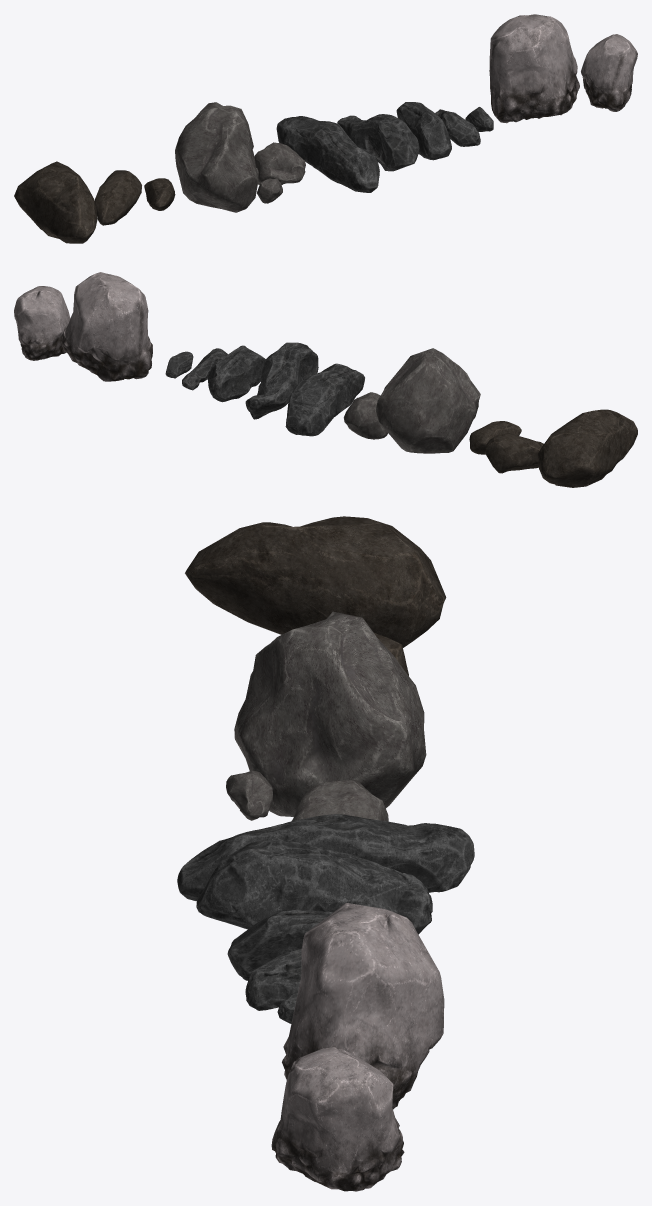
The model's file is assorted_rock_pack_src.glb.
3 views of the same model, one above another, from view 1: azimuth 30°, elevation 25°; view 2: azimuth 150°, elevation 25°; view 3: azimuth 270°, elevation 25° (orthographic). The views are drawn at different scales.
Parts seen in each view (by area): view 1: Object_2, Object_8, Object_9, Object_5, Object_7, Object_6, Object_4, Object_3; view 2: Object_2, Object_8, Object_9, Object_5, Object_7, Object_6, Object_4, Object_3; view 3: Object_2, Object_8, Object_9, Object_7, Object_5, Object_6, Object_4.
Boxes of the visible parts, left/top/right/bottom form: Object_2: left=489, top=14, right=637, bottom=123; Object_8: left=175, top=102, right=305, bottom=212; Object_9: left=14, top=161, right=175, bottom=243; Object_5: left=276, top=116, right=379, bottom=192; Object_7: left=337, top=114, right=419, bottom=171; Object_6: left=396, top=102, right=451, bottom=160; Object_4: left=435, top=109, right=480, bottom=146; Object_3: left=465, top=107, right=493, bottom=131; Object_2: left=14, top=272, right=152, bottom=381; Object_8: left=343, top=348, right=480, bottom=453; Object_9: left=469, top=409, right=637, bottom=487; Object_5: left=285, top=363, right=364, bottom=436; Object_7: left=245, top=342, right=318, bottom=419; Object_6: left=208, top=345, right=265, bottom=402; Object_4: left=182, top=348, right=227, bottom=390; Object_3: left=165, top=351, right=193, bottom=378; Object_2: left=271, top=903, right=444, bottom=1191; Object_8: left=226, top=611, right=426, bottom=821; Object_9: left=185, top=516, right=446, bottom=675; Object_7: left=196, top=840, right=432, bottom=934; Object_5: left=177, top=814, right=474, bottom=901; Object_6: left=227, top=910, right=332, bottom=980; Object_4: left=245, top=949, right=301, bottom=1010.
Bounding box in the file's own units: 1702 × 275 × 371.
Materials: 4 (4 with a texture image).
